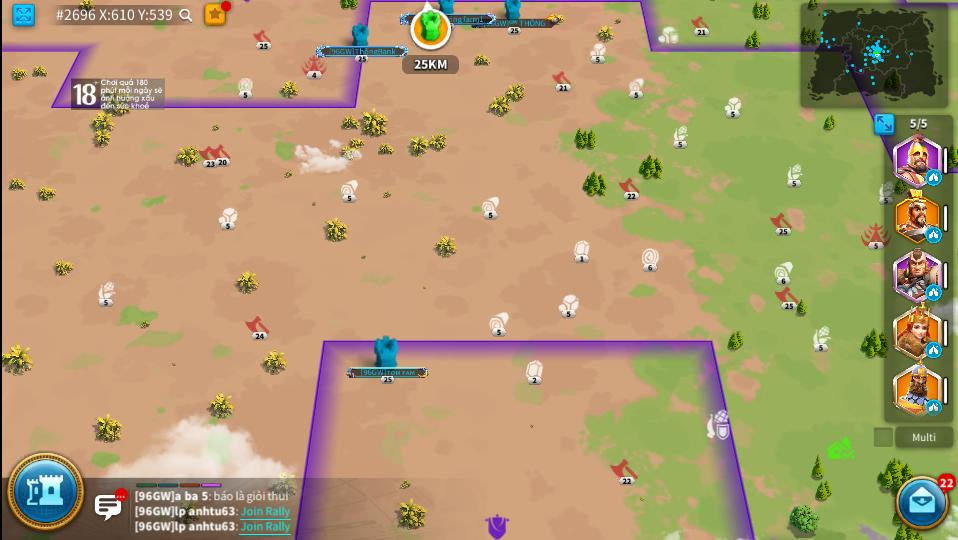gem-z-out: (524, 359, 543, 385), (573, 239, 591, 262)
march_idle: (925, 228, 942, 242), (926, 170, 940, 185), (927, 400, 941, 415), (926, 285, 940, 299), (928, 343, 940, 357)
